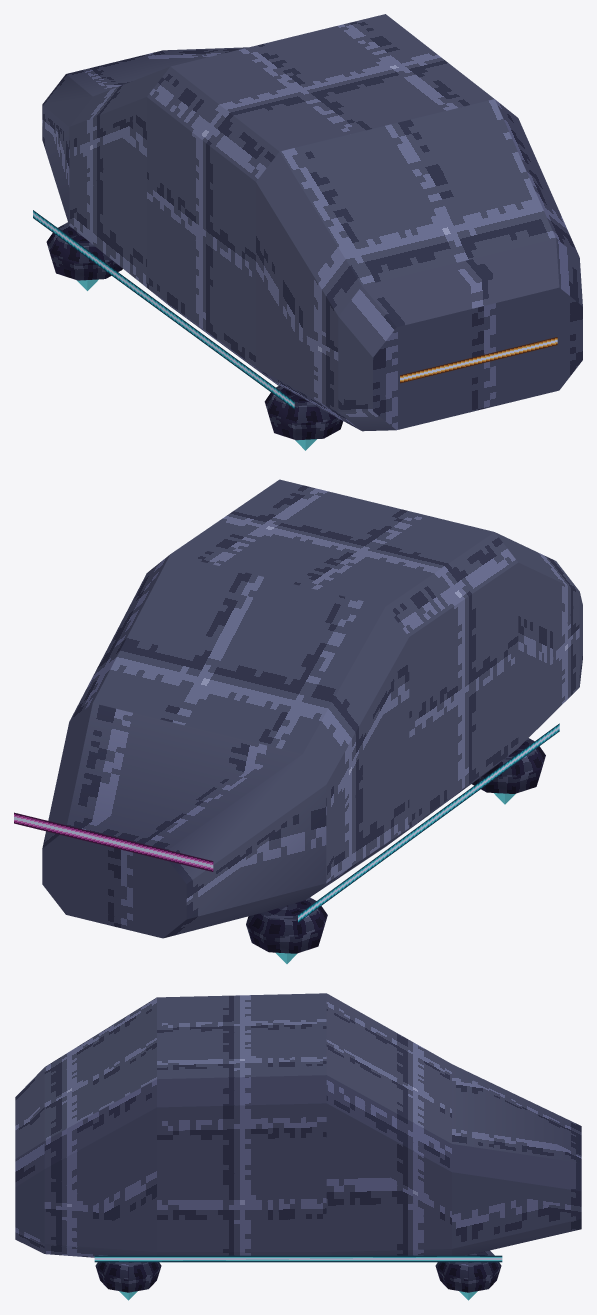
The model's file is cytech.hovercar__van.glb.
The picture shows the model from 3 angles, top to bottom: view 1: azimuth 30°, elevation 25°; view 2: azimuth 150°, elevation 25°; view 3: azimuth 270°, elevation 25°; orthographic projection. The views are drawn at different scales.
Visible parts, largest first — view 1: kit_hull, kit_pods, kit_card_lights; view 2: kit_hull, kit_pods, kit_card_lights; view 3: kit_hull, kit_pods, kit_card_lights.
Part boxes in pixels (bbox=[...]): kit_hull: bbox=[42, 14, 582, 431]; kit_pods: bbox=[46, 222, 343, 450]; kit_card_lights: bbox=[33, 210, 557, 409]; kit_hull: bbox=[42, 479, 582, 938]; kit_pods: bbox=[246, 738, 545, 963]; kit_card_lights: bbox=[14, 723, 559, 922]; kit_hull: bbox=[15, 993, 581, 1257]; kit_pods: bbox=[95, 1250, 501, 1300]; kit_card_lights: bbox=[94, 1255, 502, 1262].
Bounding box in the file's own units: 2.08 × 2.14 × 4.82.
Materials: 3 (3 with a texture image).
